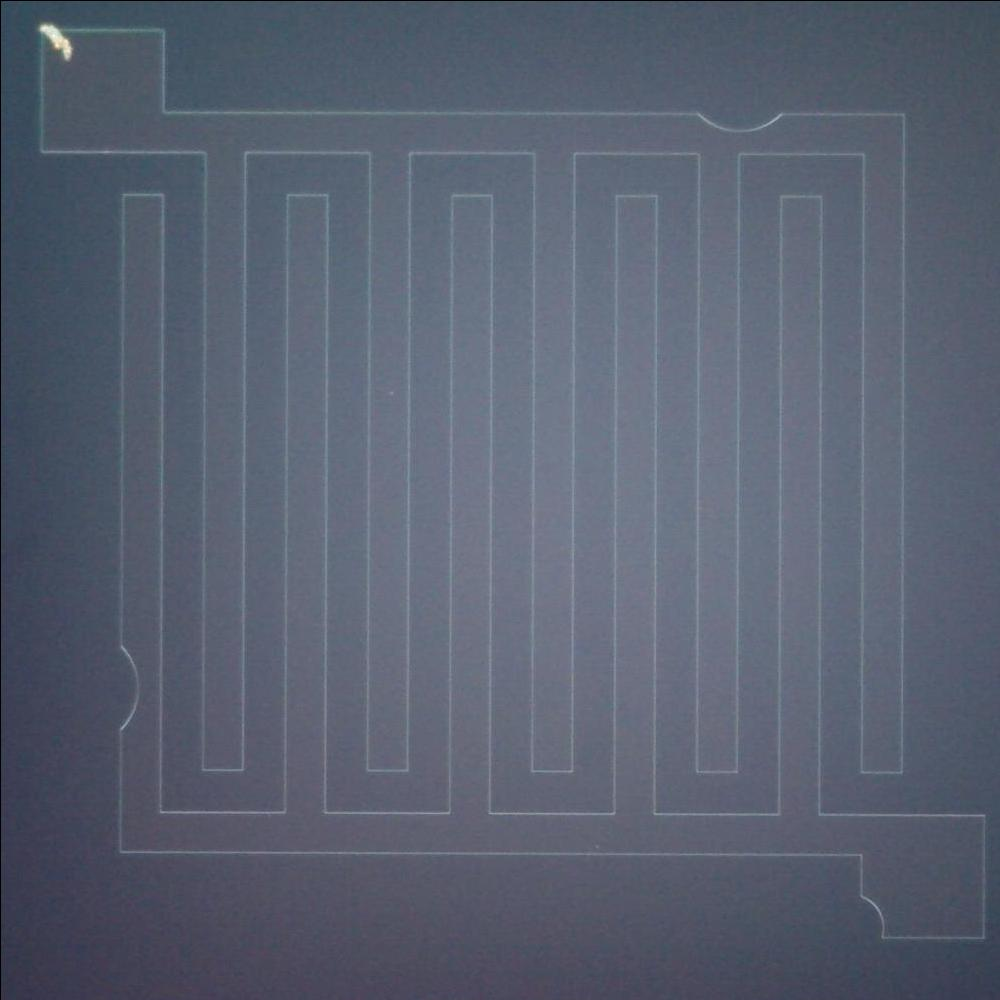curve circuit: (100, 628, 150, 742), (674, 98, 798, 138), (848, 883, 906, 944)
spot: (34, 20, 78, 63)
